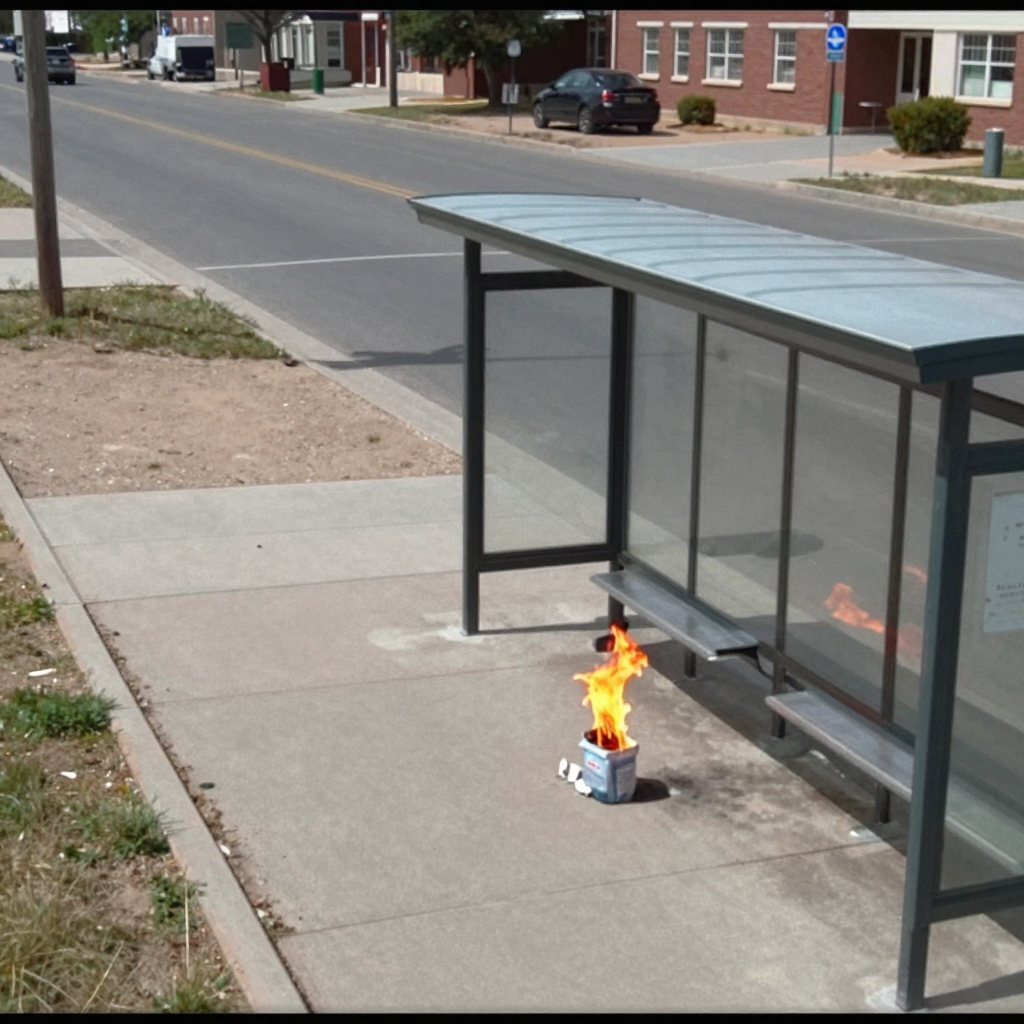Arson: (582, 630, 637, 744)
